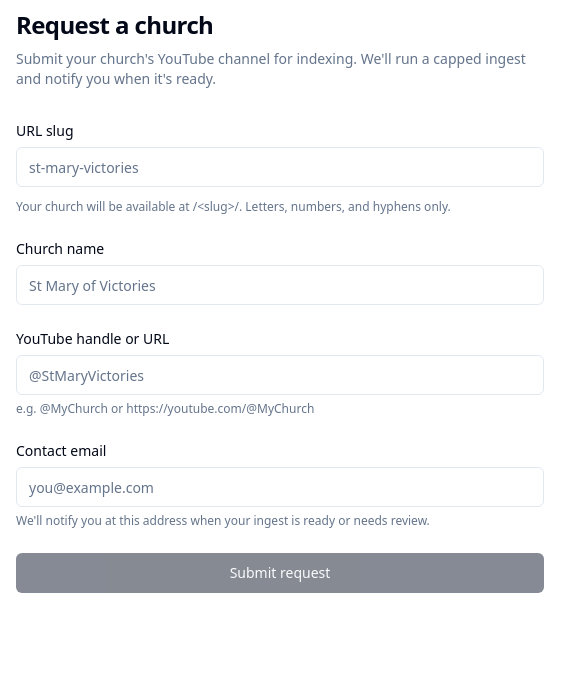
Test case: IngestPage › channel preflight callouts › request_in_flight + is_yours:false — shows neutral wait copy and disables submit
The image size is (561, 700).
Type "@TestChannel" into the field labelled "YouTube handle or URL".
click(280, 375); type("@TestChannel")  # box [16,355,544,395]
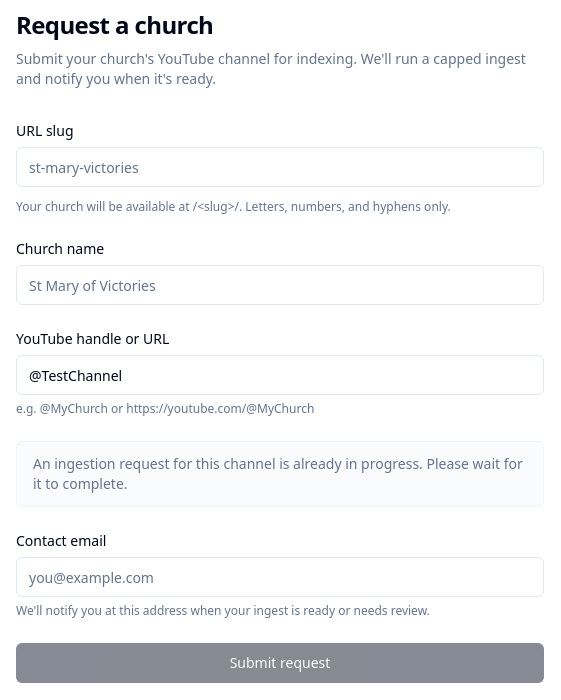
Expected: the button "Submit request" is disabled, [16,643,544,683]
Expected: the text "already in progress" is shown, [33,454,523,493]
